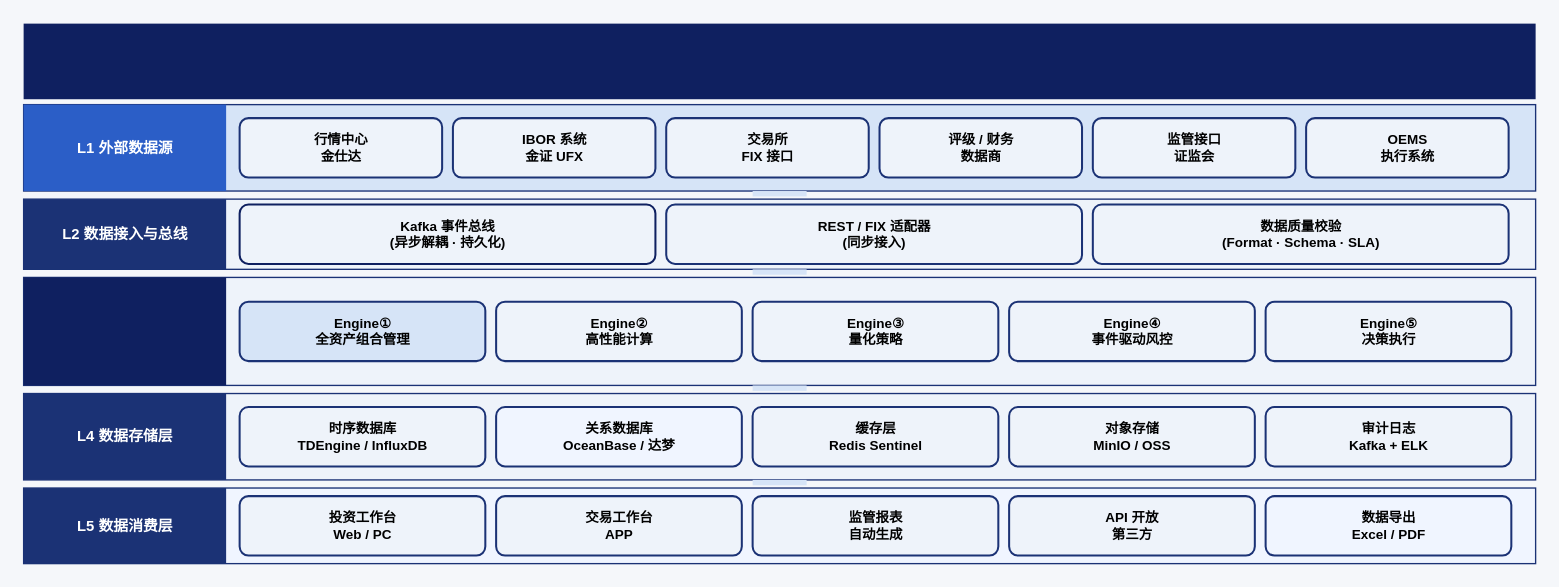
This 1559x587 diagram has some shape labels left out. The shapes that lost their labels are listed below. From the top down, each one's centre as x and y in pixels, then its label:
At [779,61]: "POMS 数据架构与数据流图 5 层数据架构 | 实时 + 批量双模式 | 数据权限隔离".
At [124,331]: "L3 POMS 核心处理层".
